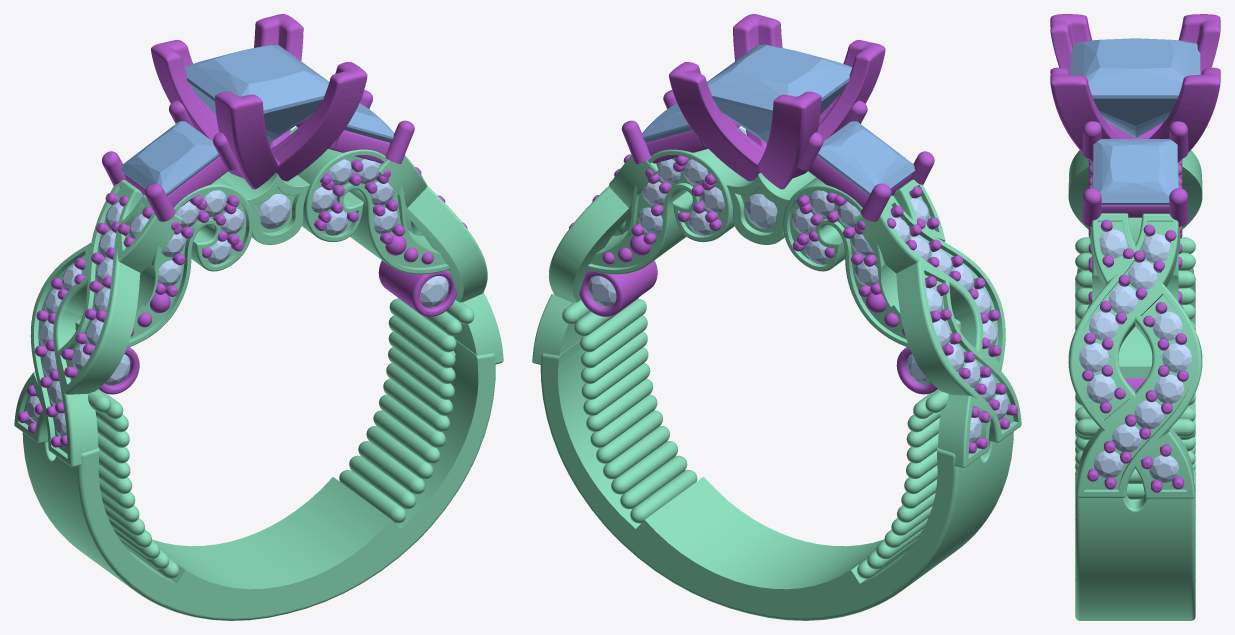
3 renders of one model, left to right at view 1: azimuth 30°, elevation 25°; view 2: azimuth 150°, elevation 25°; view 3: azimuth 270°, elevation 25°, orthographic. The views are drawn at different scales.
Parts seen in each view (by area): view 1: ANILO OSWALDO DIAM TALLA 6.3dm, COLOR= MATERIAL=, Diamond_Princess (×3), Head Rail (×2), Diamond_Round (×2), Head Prong (×2); view 2: ANILO OSWALDO DIAM TALLA 6.3dm, COLOR= MATERIAL=, Diamond_Princess (×3), Head Rail (×2), Diamond_Round (×2), Head Prong (×2); view 3: ANILO OSWALDO DIAM TALLA 6.3dm, Diamond_Princess (×2), GemOnCrv (×14), COLOR= MATERIAL=, Head Prong (×4), Head Rail.
Boxes of the visible parts, left/top/right/bottom form: ANILO OSWALDO DIAM TALLA 6.3dm: left=14, top=127, right=503, bottom=620; COLOR= MATERIAL=: left=151, top=14, right=367, bottom=189; Diamond_Princess (×3): left=121, top=44, right=394, bottom=195; Head Rail (×2): left=124, top=116, right=389, bottom=207; Diamond_Round (×2): left=259, top=194, right=448, bottom=307; Head Prong (×2): left=145, top=120, right=414, bottom=221; ANILO OSWALDO DIAM TALLA 6.3dm: left=532, top=127, right=1021, bottom=620; COLOR= MATERIAL=: left=669, top=14, right=885, bottom=189; Diamond_Princess (×3): left=642, top=44, right=914, bottom=195; Head Rail (×2): left=646, top=117, right=911, bottom=207; Diamond_Round (×2): left=588, top=194, right=777, bottom=307; Head Prong (×2): left=621, top=120, right=891, bottom=221; ANILO OSWALDO DIAM TALLA 6.3dm: left=1068, top=150, right=1202, bottom=620; Diamond_Princess (×2): left=1070, top=38, right=1200, bottom=205; GemOnCrv (×14): left=1079, top=229, right=1191, bottom=482; COLOR= MATERIAL=: left=1050, top=14, right=1220, bottom=162; Head Prong (×4): left=1082, top=121, right=1188, bottom=226; Head Rail: left=1101, top=205, right=1169, bottom=217.
Bounding box in the file's own units: 2.55 × 2.97 × 0.8353.
